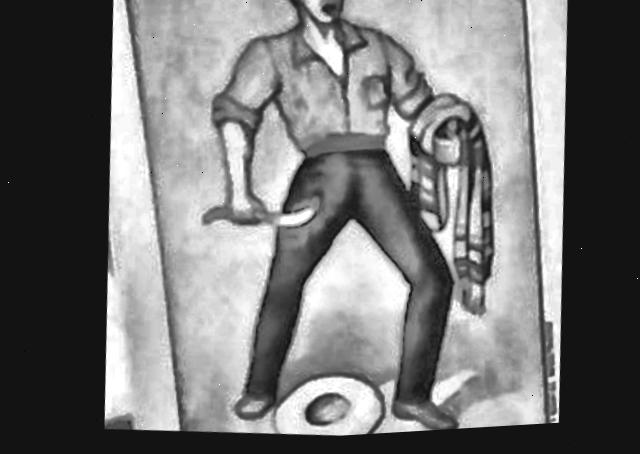El Valiente: (123, 0, 538, 440)
